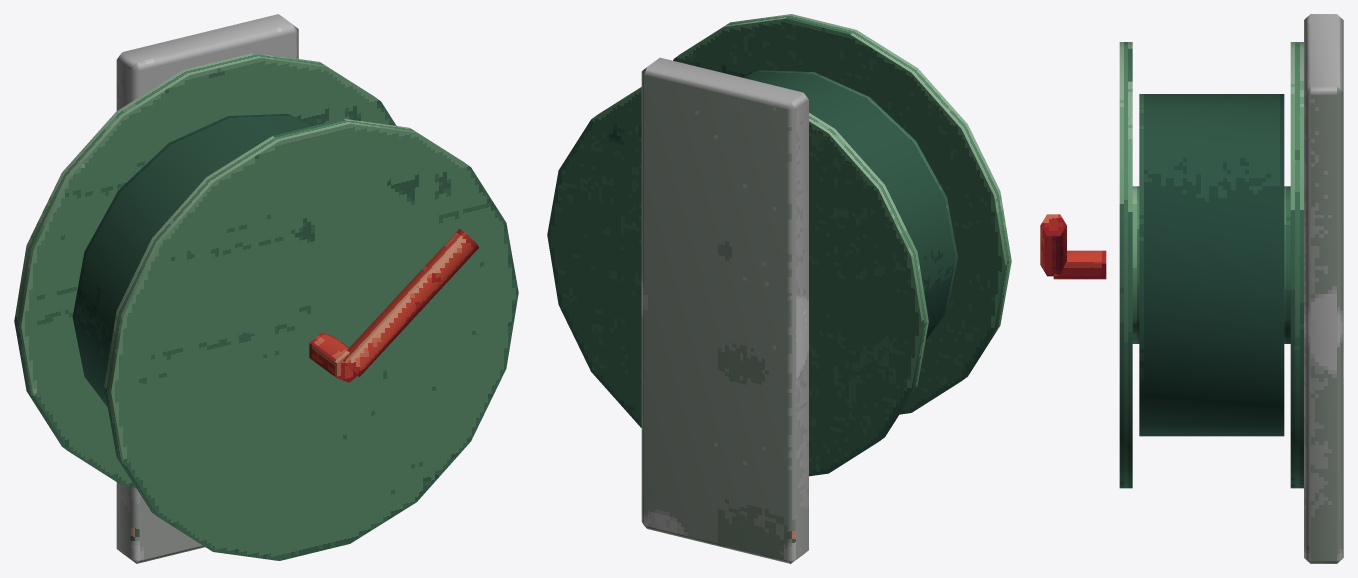
File: hose_reel.glb
3 views of the same model, side by side, from view 1: azimuth 30°, elevation 25°; view 2: azimuth 150°, elevation 25°; view 3: azimuth 270°, elevation 25° (orthographic). The views are drawn at different scales.
Parts seen in each view (by area): view 1: mesh; view 2: mesh; view 3: mesh.
Part boxes in pixels (left/top/right/bottom): mesh: left=14, top=14, right=518, bottom=563; mesh: left=547, top=14, right=1011, bottom=563; mesh: left=1040, top=14, right=1343, bottom=563.
Bounding box in the file's own units: 0.34 × 0.4 × 0.23.
1 material, 1 textured.
